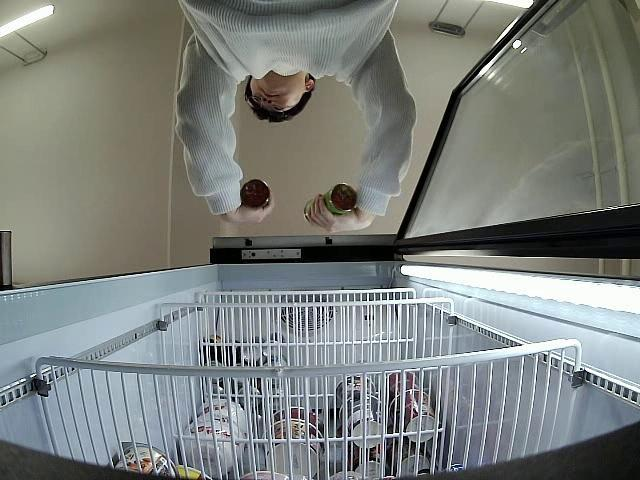19_17cha: (304, 183, 360, 226), (240, 178, 272, 208)
